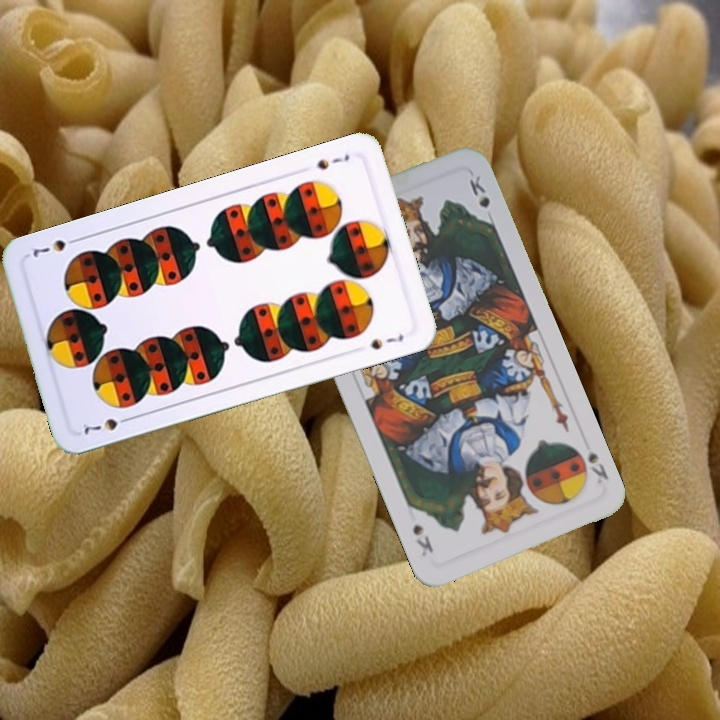S7: (79, 413, 135, 437), (312, 150, 352, 172)
SK: (578, 434, 611, 487)
